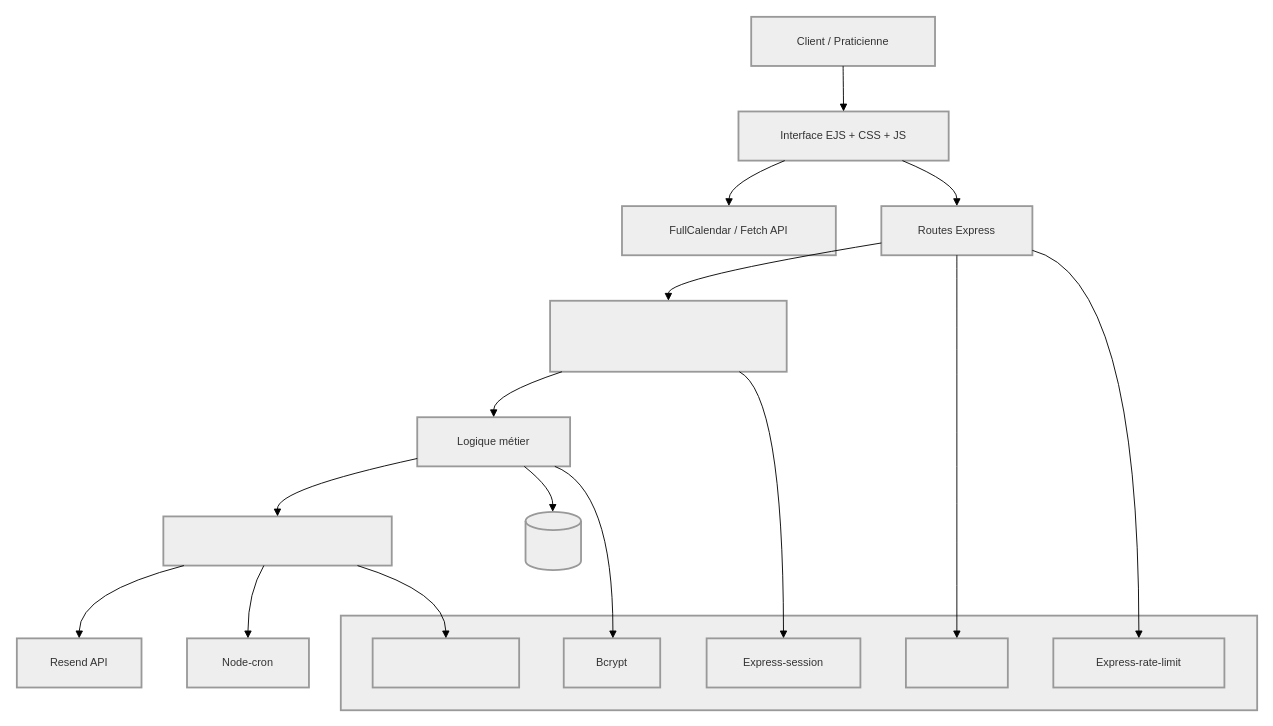
Image size: 1273x726. Some labels were removed from this diagram. The box of each missing label's shape, as (x1, y1, x2, y2) in pixels:
Helmet: (905, 637, 1008, 688)
Middlewares auth / locals / sécurité: (549, 299, 787, 372)
MySQL: (524, 511, 581, 571)
Services mail / jobs / utils: (162, 515, 392, 566)
Variables .env: (371, 637, 520, 688)
